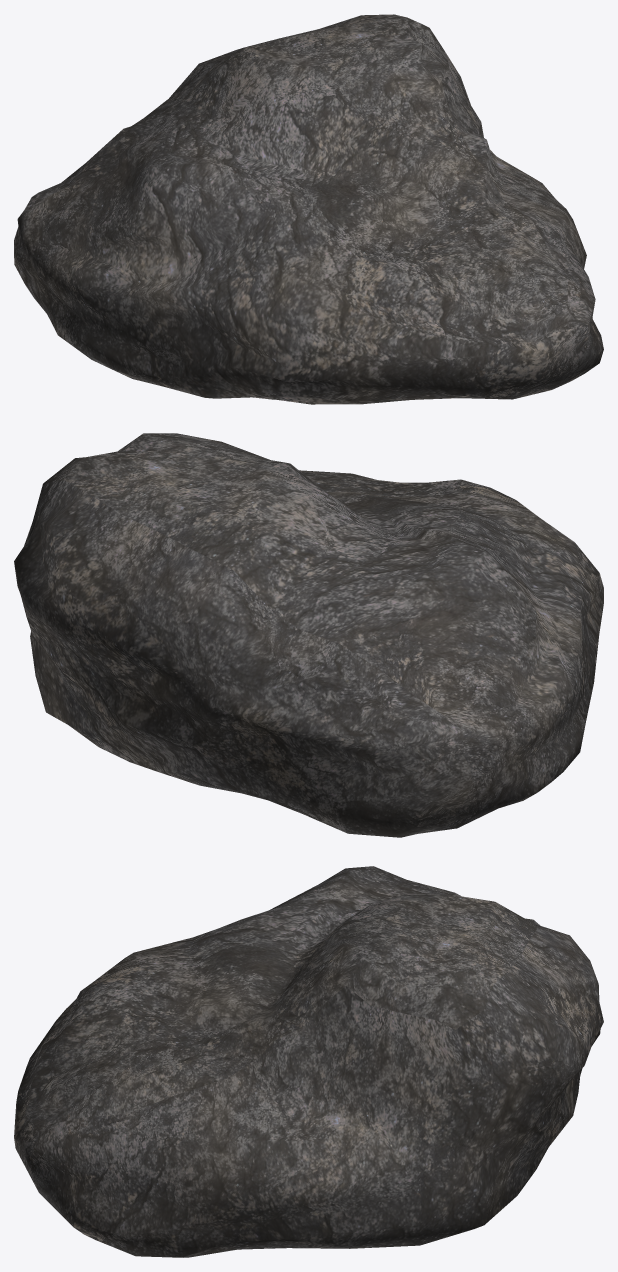
Rendered from Rock04.dae.
3 views of the same model, one above another, from view 1: azimuth 30°, elevation 25°; view 2: azimuth 150°, elevation 25°; view 3: azimuth 270°, elevation 25° (orthographic). The views are drawn at different scales.
Visible parts, largest first — view 1: Rock04; view 2: Rock04; view 3: Rock04.
Boxes of the visible parts, x1,y1,x2,y2 form: Rock04: [14, 14, 603, 404]; Rock04: [14, 433, 603, 837]; Rock04: [14, 866, 603, 1257].
Bounding box in the file's own units: 6241 × 6171 × 3293.
1 material, 1 textured.
